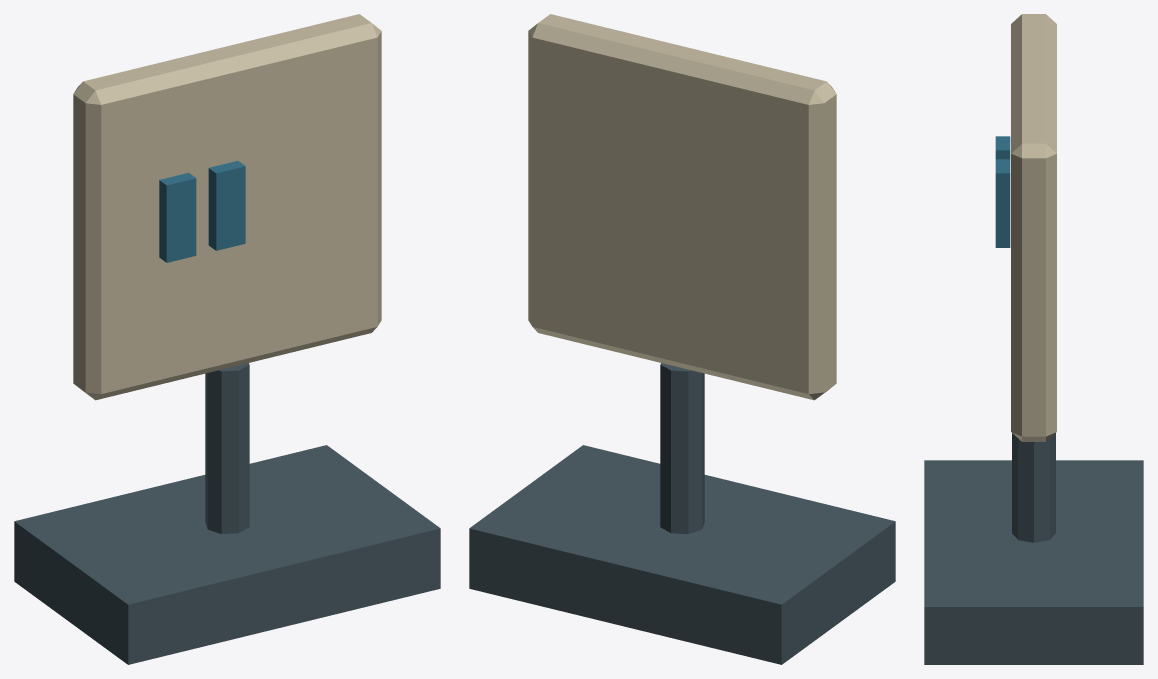
File: set_queue_marker.glb
The picture shows the model from 3 angles, left to right: view 1: azimuth 30°, elevation 25°; view 2: azimuth 150°, elevation 25°; view 3: azimuth 270°, elevation 25°; orthographic projection. The views are drawn at different scales.
Parts seen in each view (by area): view 1: set_queue_marker; view 2: set_queue_marker; view 3: set_queue_marker.
Boxes of the visible parts, x1=… form: set_queue_marker: x1=14, y1=14, x2=440, y2=664; set_queue_marker: x1=469, y1=14, x2=895, y2=664; set_queue_marker: x1=924, y1=14, x2=1143, y2=664.
Size of the model in its own units: 0.19 by 0.3095 by 0.12.
